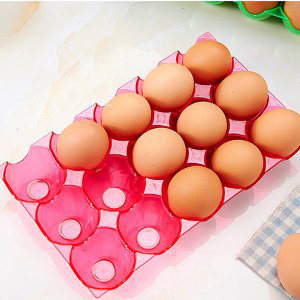egg: (56, 41, 300, 219), (277, 232, 300, 296)
